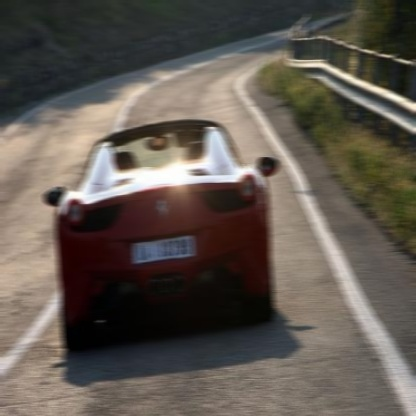Vehicle: (44, 116, 279, 351)
